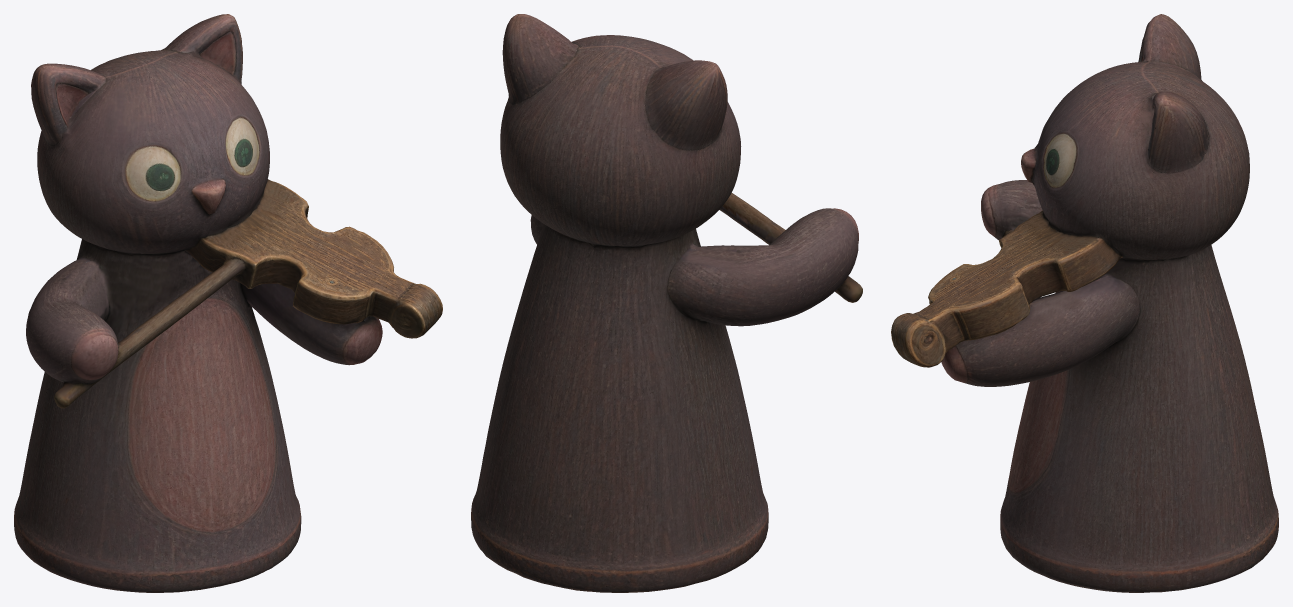
File: Prop_PuppetCatViolin.fbx
3 renders of one model, left to right at view 1: azimuth 30°, elevation 25°; view 2: azimuth 150°, elevation 25°; view 3: azimuth 270°, elevation 25°, orthographic. The views are drawn at different scales.
Parts seen in each view (by area): view 1: texture_mapping; view 2: texture_mapping; view 3: texture_mapping.
Part boxes in pixels (x1,y1,x2,y2): texture_mapping: (14,14,442,592); texture_mapping: (471,14,862,592); texture_mapping: (891,14,1278,592).
Bounding box in the file's own units: 0.719 × 0.7357 × 1.
Materials: 1 (1 with a texture image).
